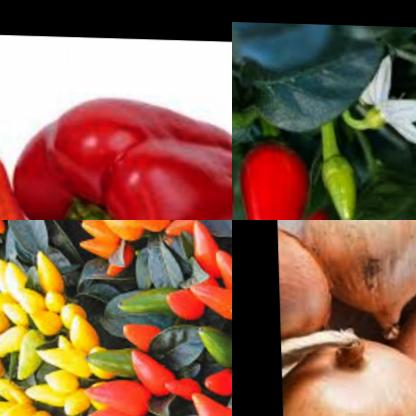bell pepper: (0, 92, 232, 220)
hot pepper: (0, 241, 96, 416), (76, 319, 187, 416), (149, 220, 232, 336), (237, 132, 312, 220), (58, 220, 174, 267), (308, 150, 371, 220), (108, 280, 180, 328), (0, 373, 76, 416), (189, 317, 232, 367), (179, 388, 232, 416), (193, 358, 232, 389)
onion: (303, 220, 416, 335), (280, 332, 416, 416), (277, 220, 339, 381)
